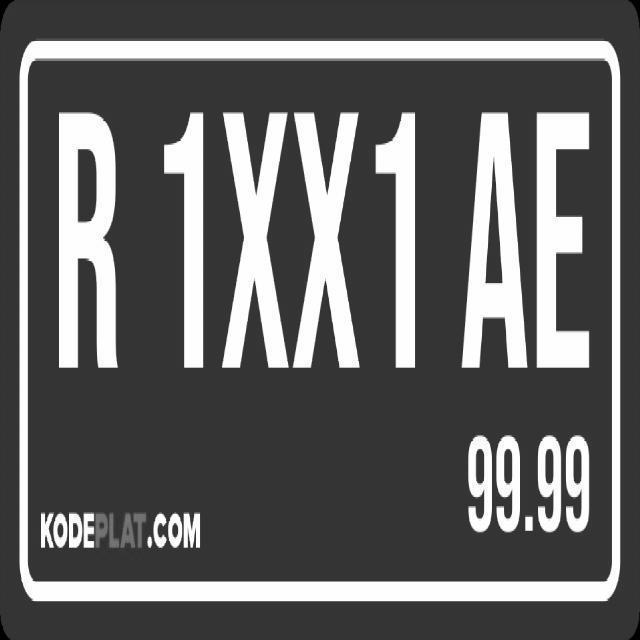1: (150, 95, 212, 388), (370, 110, 430, 372)
A: (453, 100, 535, 388)
E: (533, 108, 599, 391)
R: (40, 98, 138, 384)
X: (291, 105, 369, 368), (220, 105, 289, 378)
